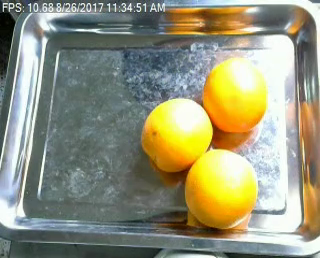Orange: (183, 149, 258, 228), (142, 98, 213, 172), (201, 56, 266, 132)
